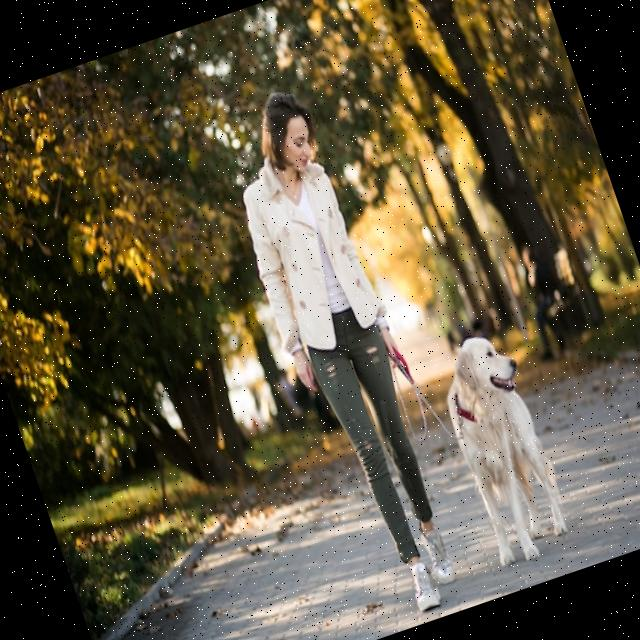Dog: (427, 326, 581, 570)
Person: (206, 82, 483, 626)
